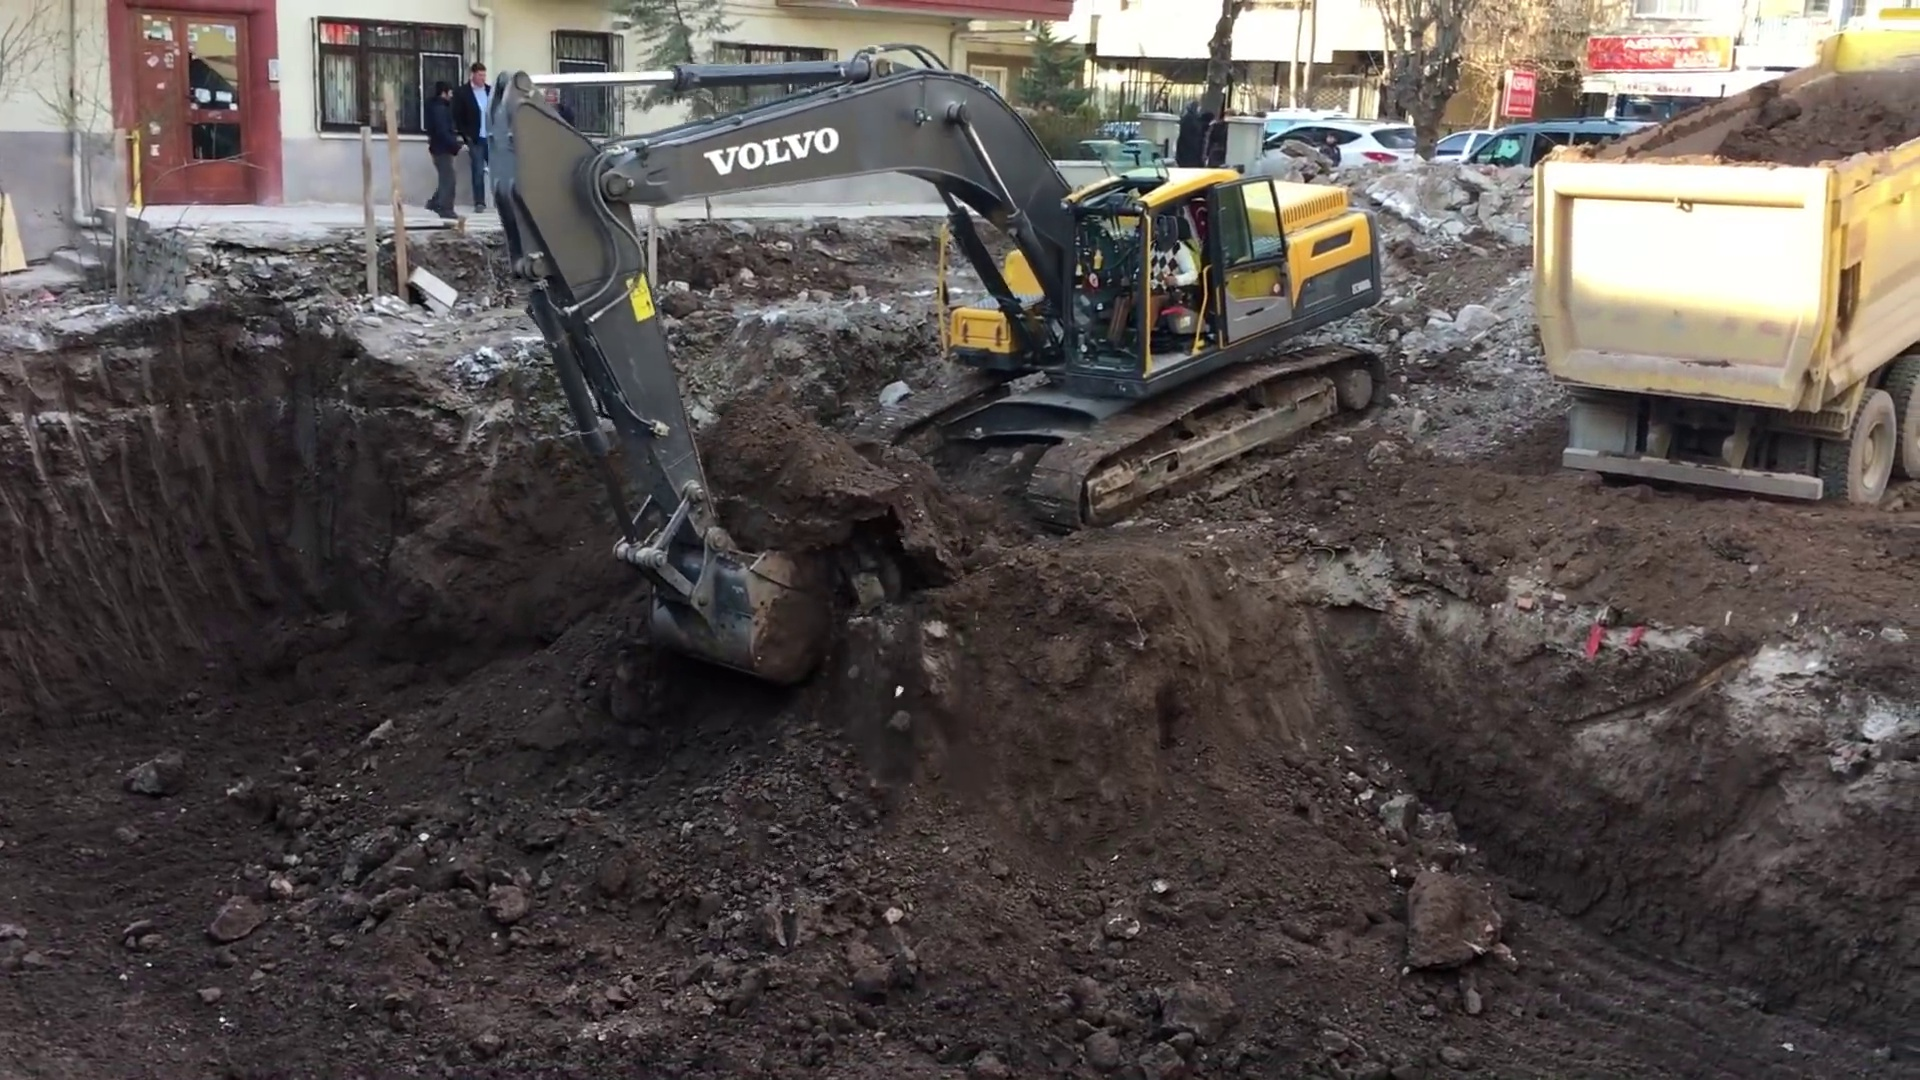car: (1265, 117, 1412, 182), (1484, 122, 1656, 169), (1433, 132, 1514, 186)
excavator: (488, 60, 1383, 695)
person: (420, 81, 464, 219), (466, 64, 497, 209), (1324, 131, 1339, 169)
truck: (1526, 13, 1920, 504)
